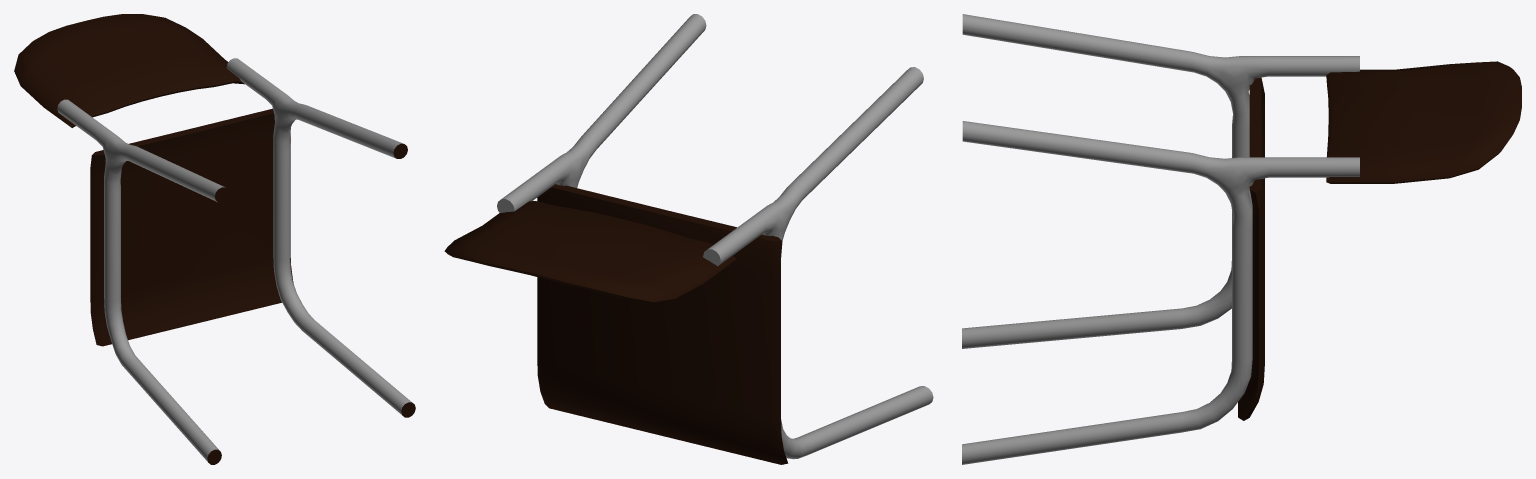
Rendered from Chair.fbx.
3 views of the same model, side by side, from view 1: azimuth 30°, elevation 25°; view 2: azimuth 150°, elevation 25°; view 3: azimuth 270°, elevation 25° (orthographic). The views are drawn at different scales.
Visible parts, largest first — view 1: Chair; view 2: Chair; view 3: Chair.
Boxes of the visible parts, x1=… form: Chair: x1=14, y1=14, x2=415, y2=464; Chair: x1=444, y1=14, x2=933, y2=464; Chair: x1=962, y1=14, x2=1521, y2=464.
Size of the model in its own units: 21.11 by 26.66 by 40.06.
